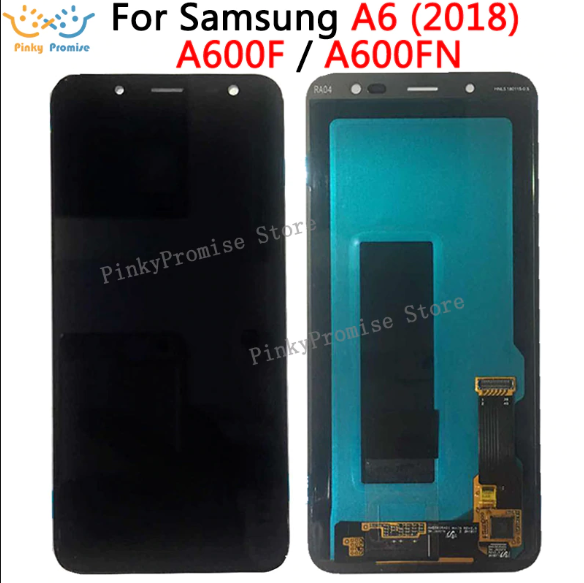Phone: (47, 72, 291, 575), (304, 71, 543, 576)
